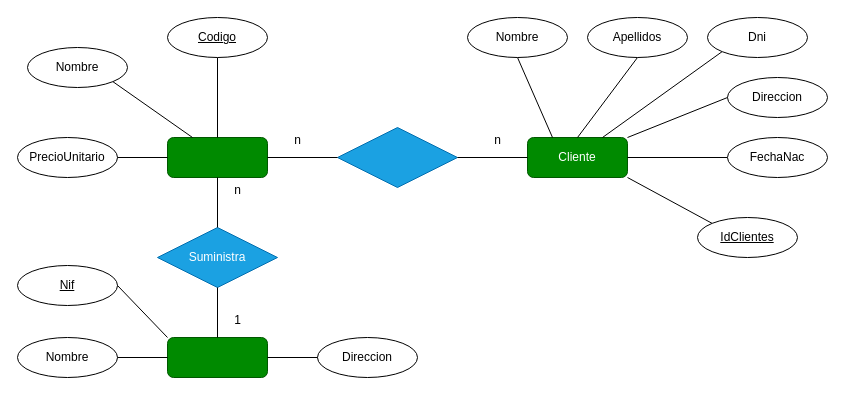
This 845x395 diagram has some shape labels left out. The box of each missing label's shape, as (x1, y1, x2, y2) in pixels:
Compra: (336, 126, 458, 188)
Producto: (166, 136, 268, 178)
Proveedor: (166, 336, 268, 378)
